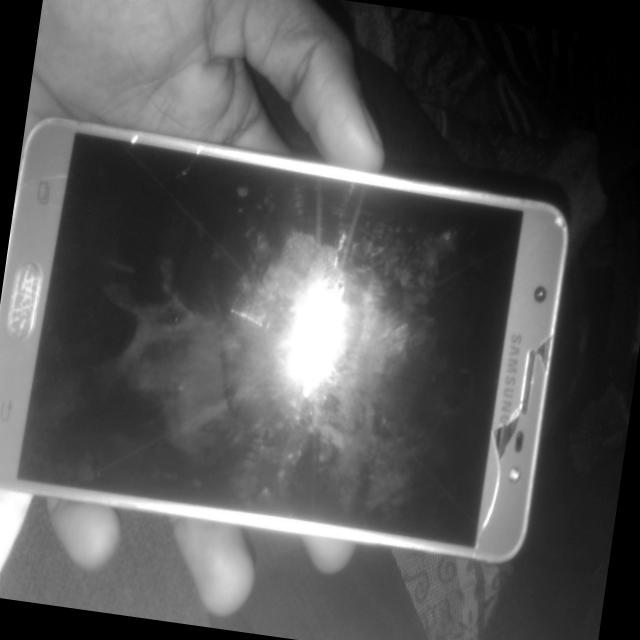Crack: (240, 233, 395, 425)
